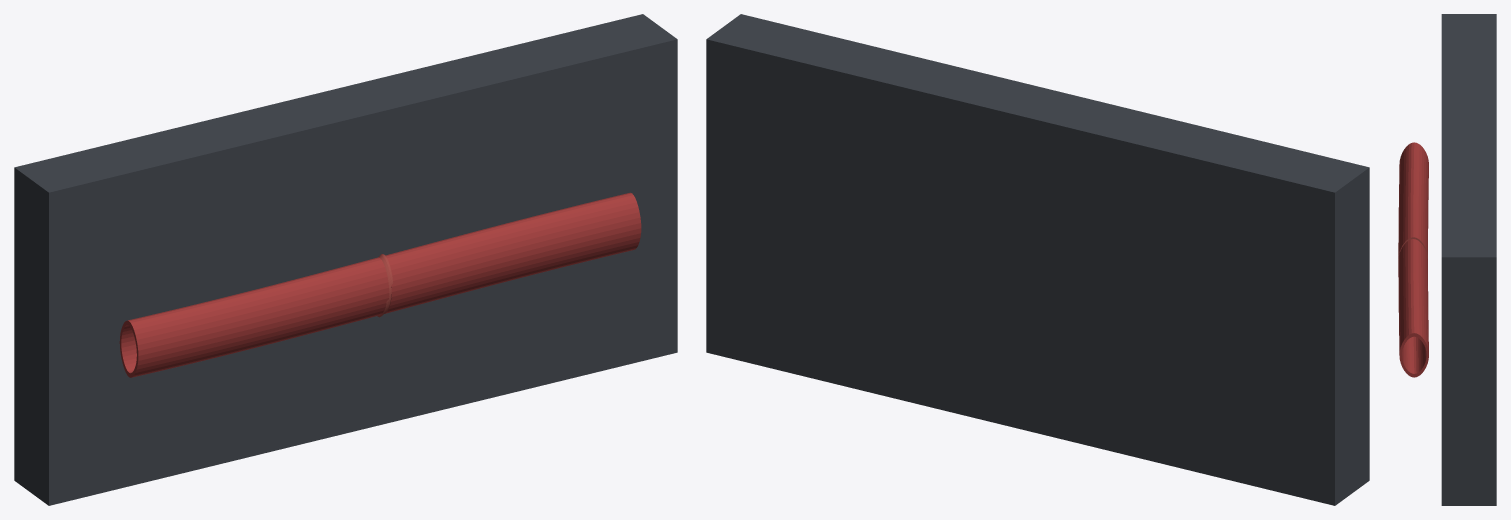
File: dranmar_seal_divide_vessel_compressed.glb
3 views of the same model, side by side, from view 1: azimuth 30°, elevation 25°; view 2: azimuth 150°, elevation 25°; view 3: azimuth 270°, elevation 25° (orthographic). The views are drawn at different scales.
Parts seen in each view (by area): view 1: FixtureBase, LeftVessel, RightVessel; view 2: FixtureBase; view 3: FixtureBase, RightVessel, LeftVessel.
Boxes of the visible parts, x1,y1,x2,y2 form: FixtureBase: (14, 14, 677, 505); LeftVessel: (119, 257, 389, 377); RightVessel: (384, 192, 641, 313); FixtureBase: (706, 14, 1369, 505); FixtureBase: (1441, 14, 1496, 505); RightVessel: (1398, 239, 1428, 377); LeftVessel: (1398, 142, 1428, 259).
Bounding box in the file's own units: 0.105 × 0.05 × 0.0179.
